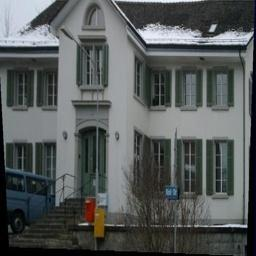building: (1, 2, 255, 247)
